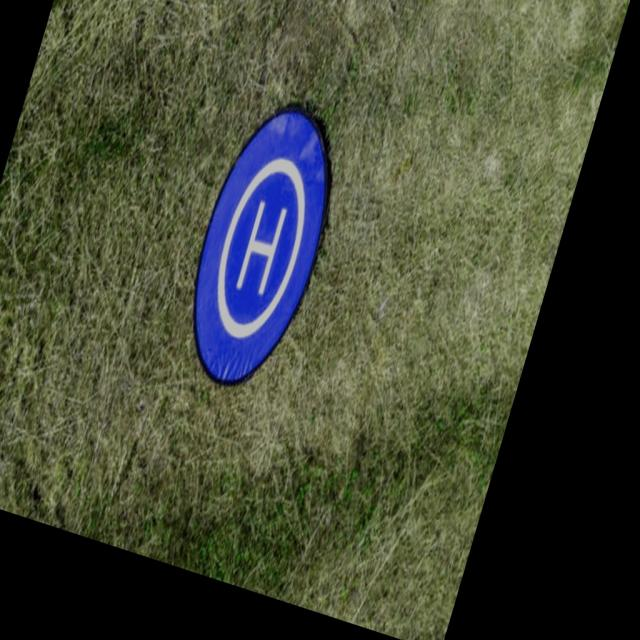helipad: (210, 152, 312, 342)
